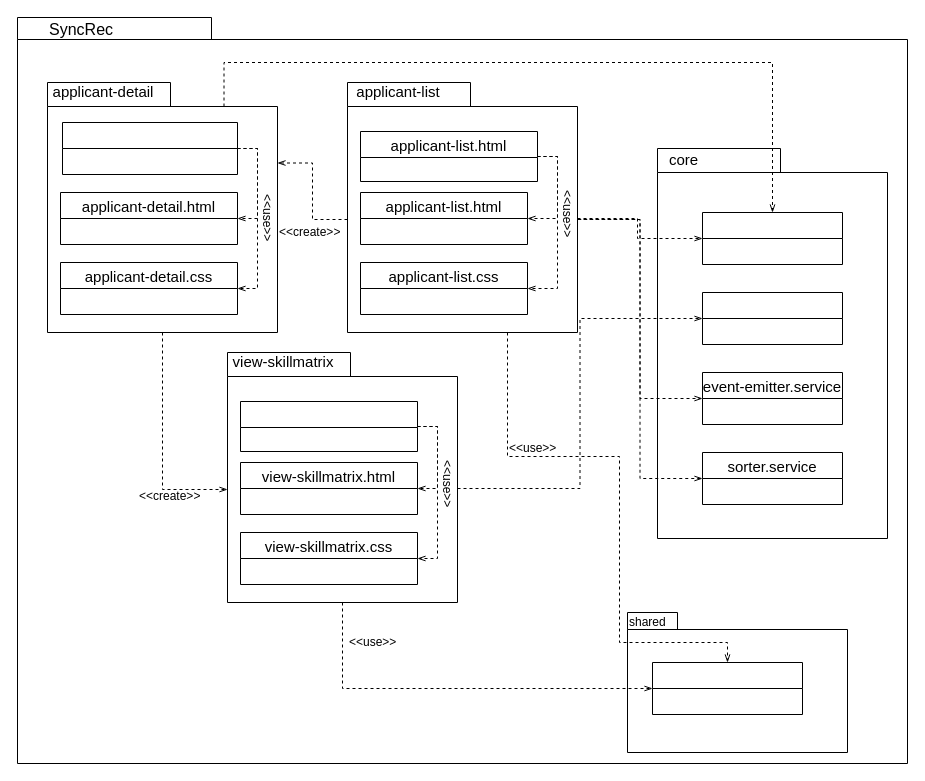
Some shapes in this 925 by 781 pixel diagram are drawn without their labels. The shapes that lost their labels are listed below. From the top down, each one's centre as x and y in pixels, then its label:
the point at 150,148: applicant-detail.ts
the point at 772,238: applicant.service
the point at 772,318: skill.service
the point at 329,426: view-skillmatrix.ts
the point at 727,688: filter-textbox.ts
